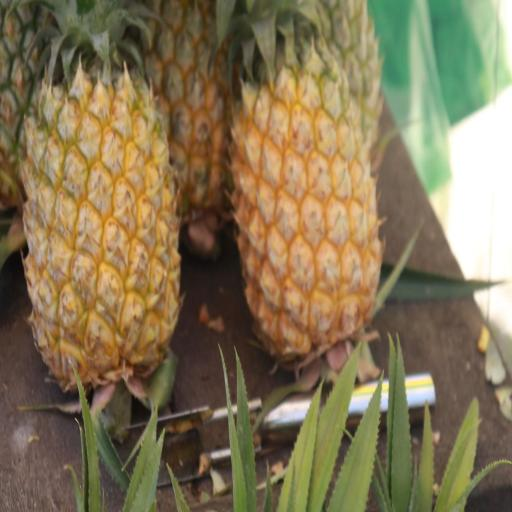Pineapple - v8 v1: (19, 0, 186, 426), (224, 0, 386, 381)
